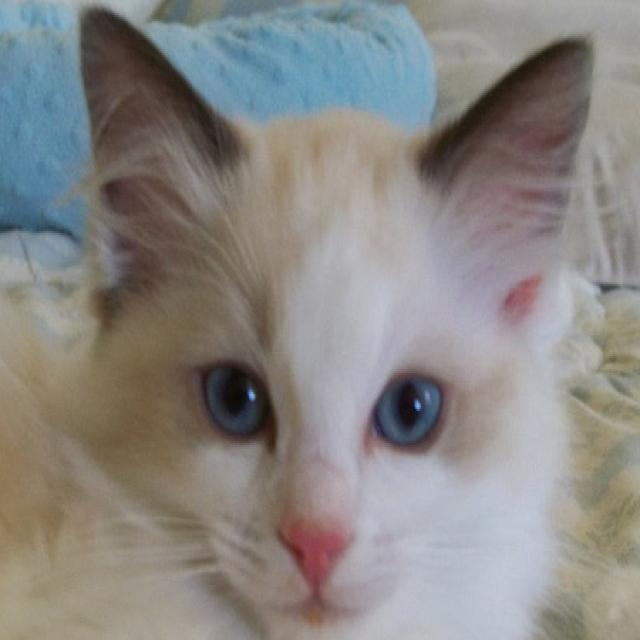Ragdoll: (0, 0, 597, 640)
